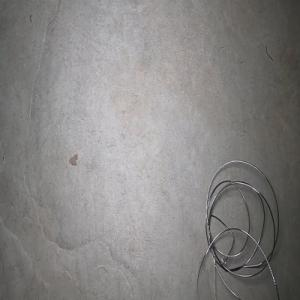Wire: (196, 159, 279, 300)
